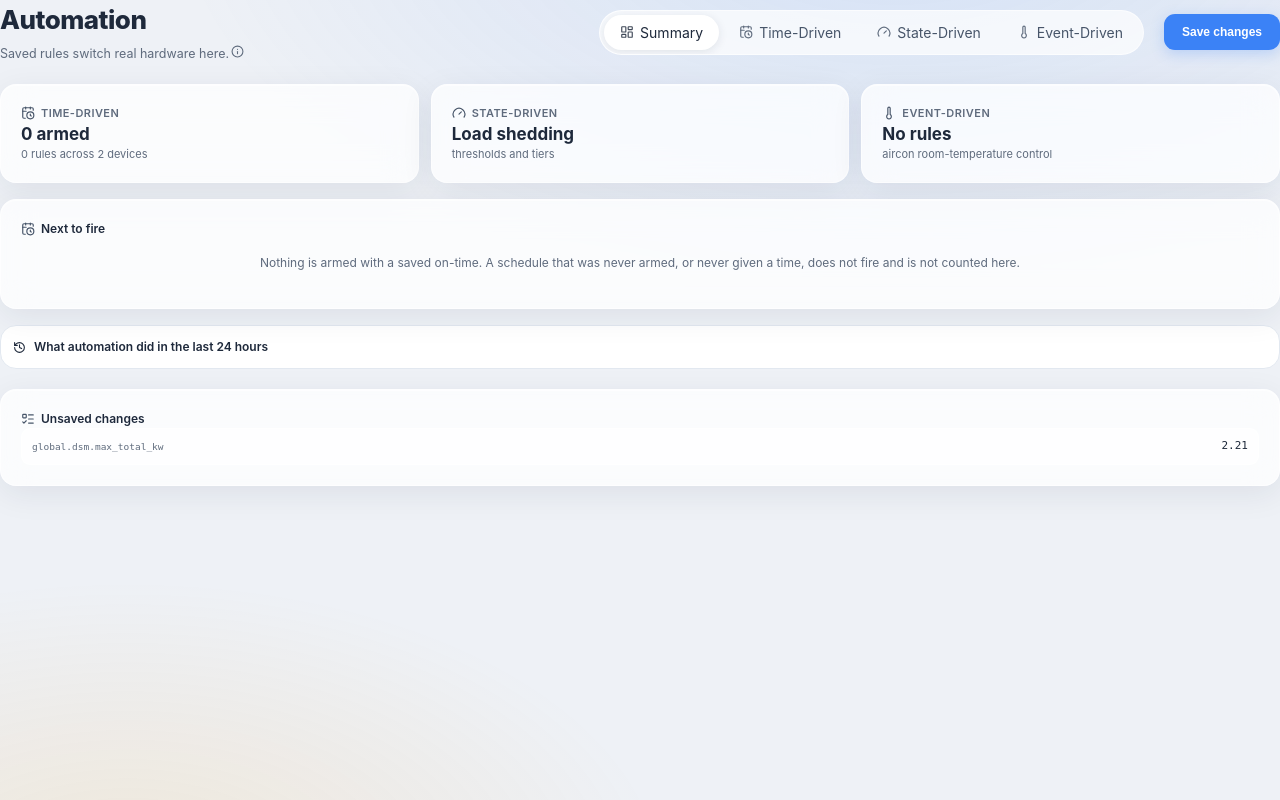
AutomationPage — what saving actually does › carries the same sentence into the save confirmation, not just onto the page
Click the button "Save changes" at (1222, 32), box [1164,14,1279,50]
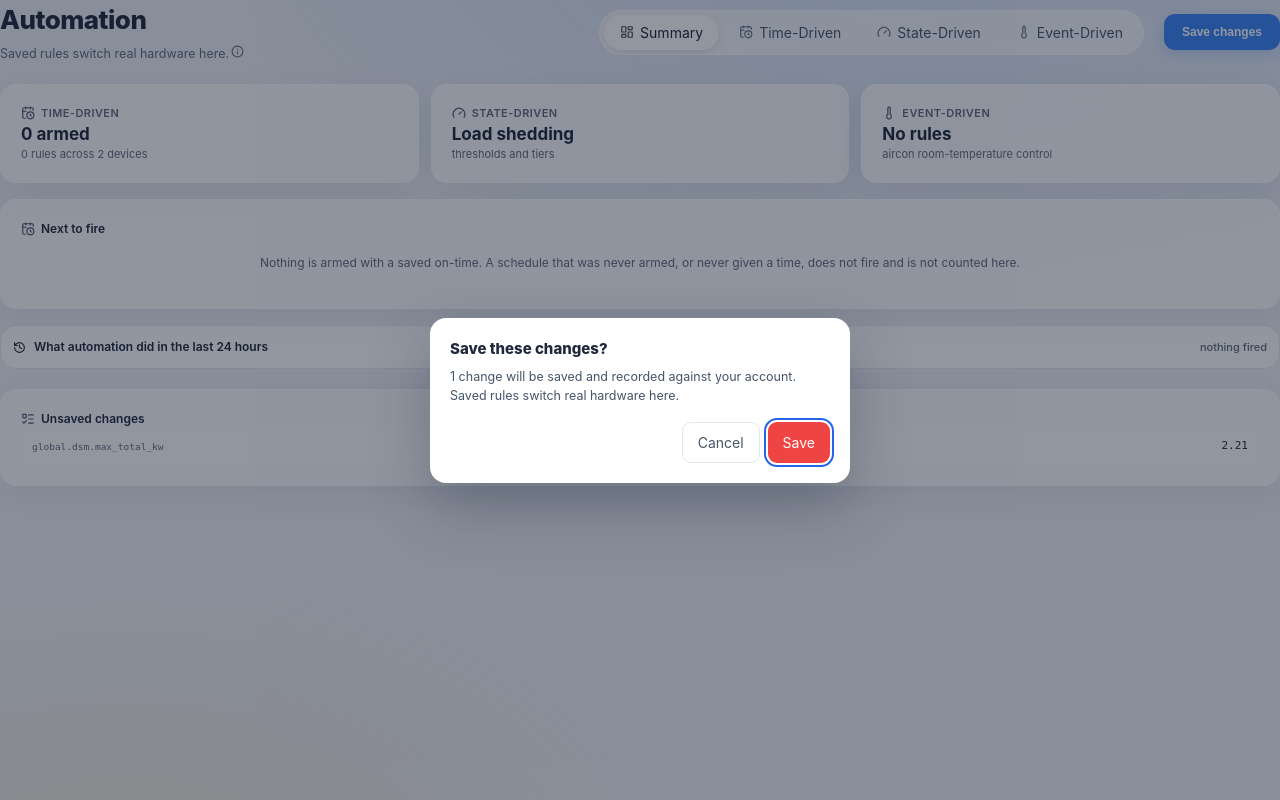
Check: the text "Saved rules switch real hardware here" is shown, box [450,369,796,403]
